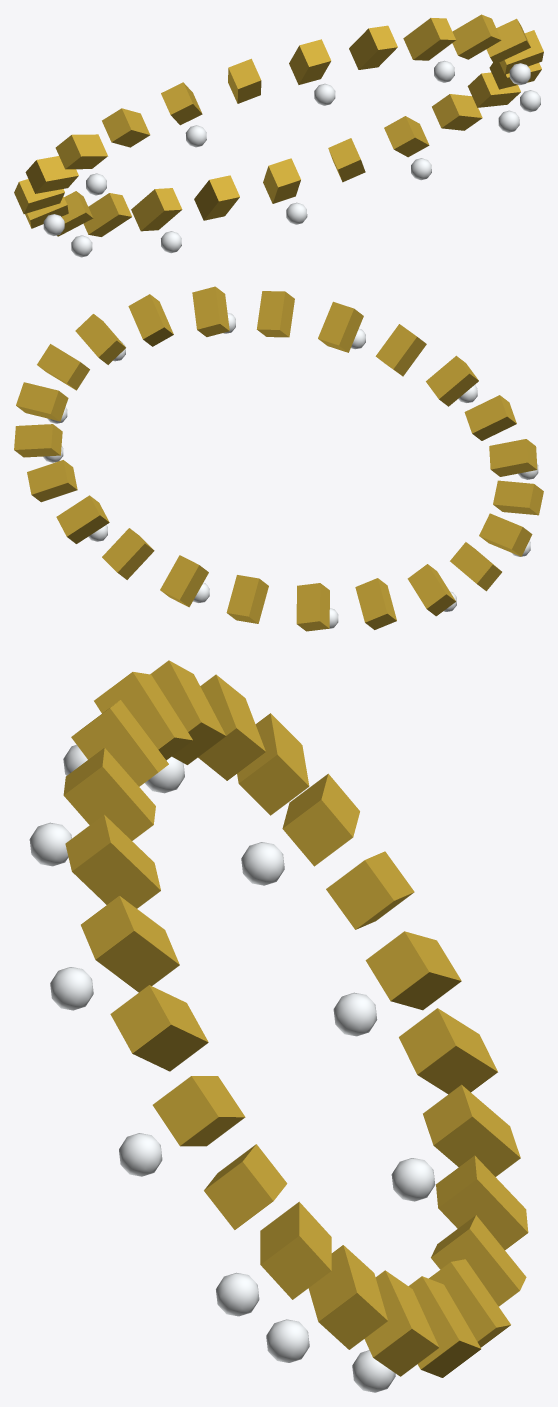
The model's file is anika-bridal-bangles.glb.
3 renders of one model, top to bottom at view 1: azimuth 30°, elevation 25°; view 2: azimuth 150°, elevation 25°; view 3: azimuth 270°, elevation 25°, orthographic. The views are drawn at different scales.
Parts seen in each view (by area): view 1: bracelet_link (×23), bracelet_gem (×12); view 2: bracelet_link (×23); view 3: bracelet_link (×23), bracelet_gem (×10).
Boxes of the visible parts, x1,y1,x2,y2 form: bracelet_link (×23): [14, 14, 543, 236]; bracelet_gem (×12): [43, 60, 540, 257]; bracelet_link (×23): [14, 286, 543, 631]; bracelet_link (×23): [63, 660, 528, 1377]; bracelet_gem (×10): [29, 756, 435, 1392].
Bounding box in the file's own units: 2.32 × 1.12 × 0.9881.
